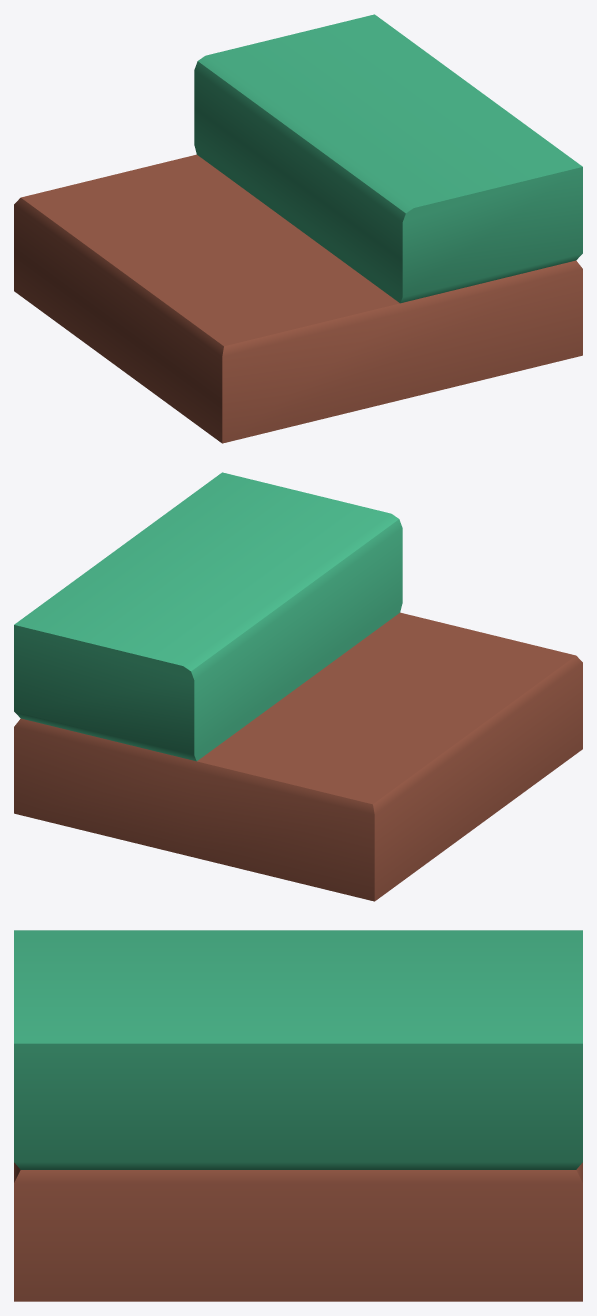
File: kaykit-square-forest-waterstraight-empty.glb
3 renders of one model, top to bottom at view 1: azimuth 30°, elevation 25°; view 2: azimuth 150°, elevation 25°; view 3: azimuth 270°, elevation 25°, orthographic. The views are drawn at different scales.
Parts seen in each view (by area): view 1: square_forest_waterStraight_empty; view 2: square_forest_waterStraight_empty; view 3: square_forest_waterStraight_empty.
Part boxes in pixels (<box>): square_forest_waterStraight_empty: <box>14,14,582,443</box>; square_forest_waterStraight_empty: <box>14,472,582,901</box>; square_forest_waterStraight_empty: <box>14,930,582,1301</box>.
Size of the model in its own units: 2 by 1 by 2.
